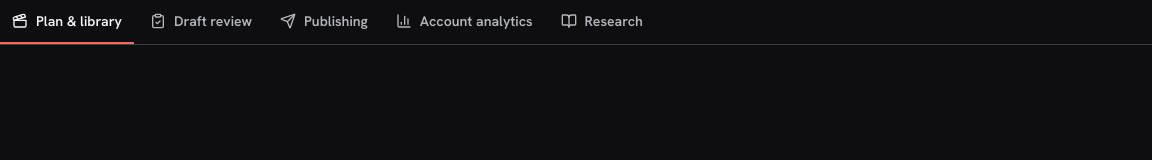
Test: Content workspace navigation › uses the established owner-email helper for sam.com593@gmail.com
Step 1. Click the link "Account analytics" → point(464, 21), box [396,12,533,30]
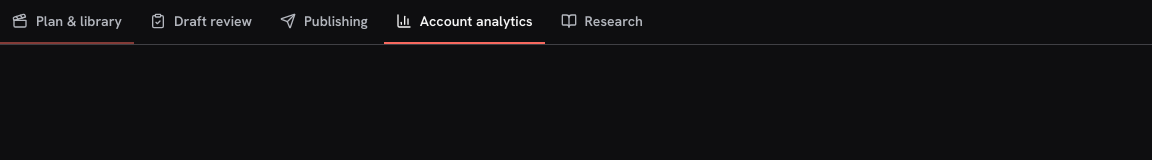
Now the link "Account analytics" is marked as current, box [384,0,545,44]
Now the link "Plan & library" does not have attribute aria-current, box [0,0,134,44]
